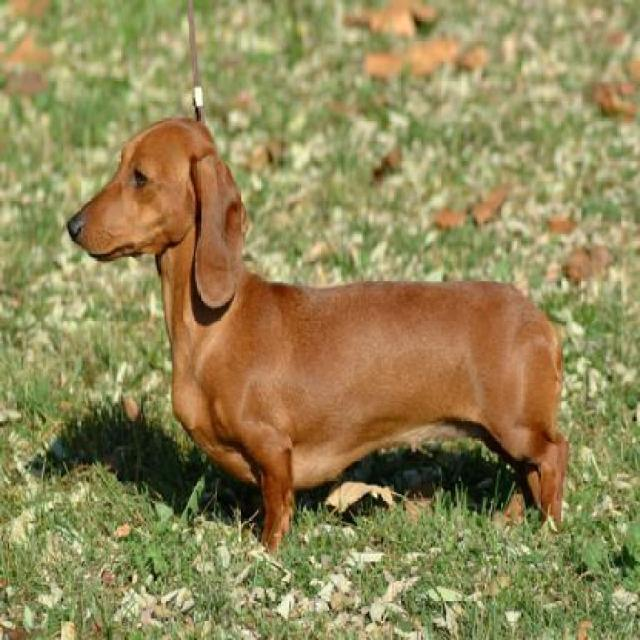Dog: (63, 115, 568, 560)
